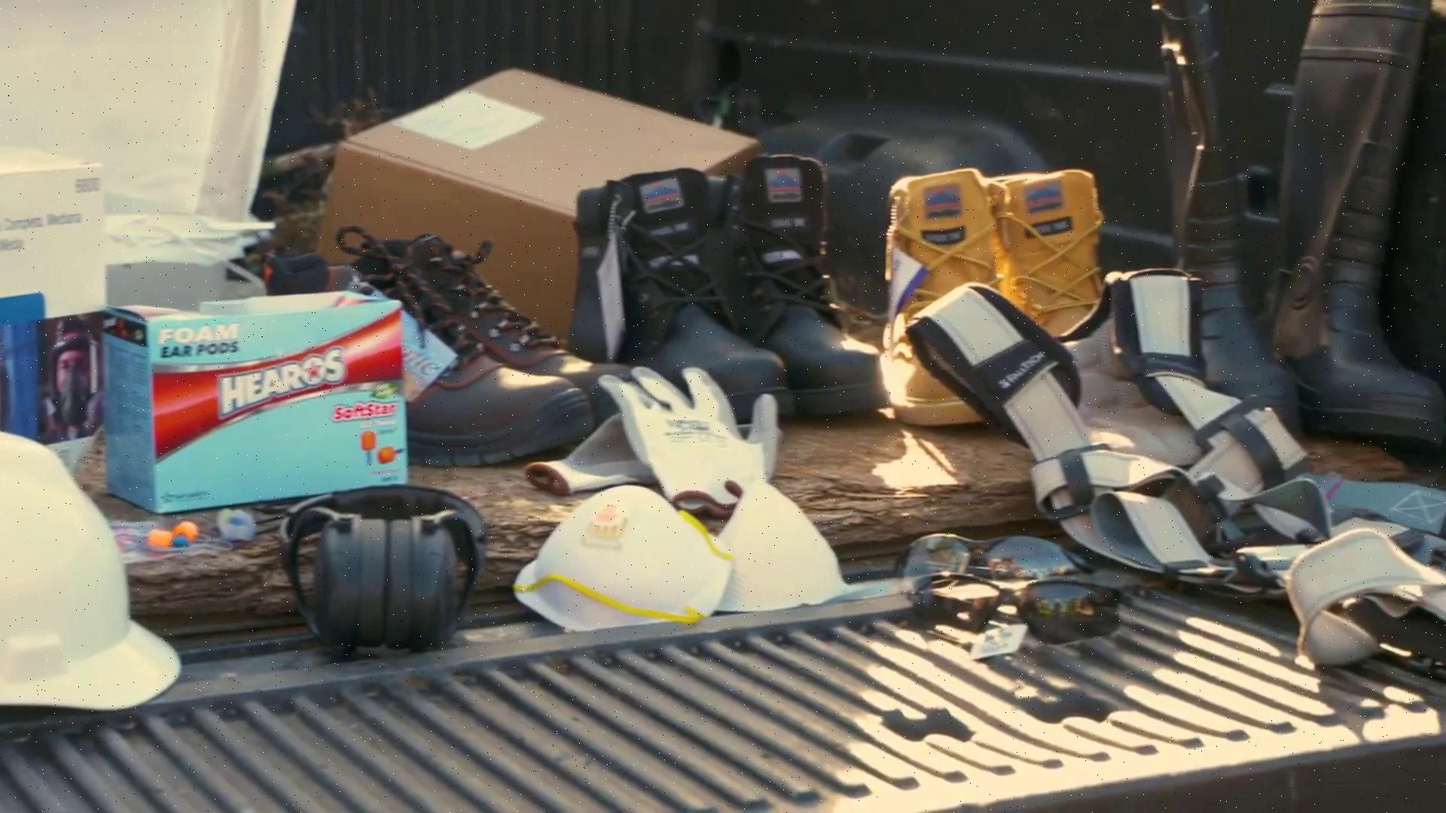Hard_hat: (2, 433, 180, 707)
